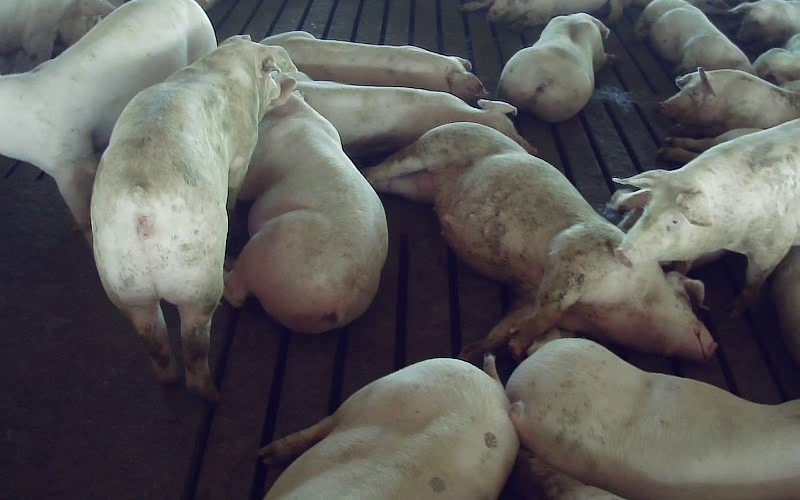pig: (367, 123, 715, 359), (91, 37, 293, 399), (0, 0, 215, 238), (507, 338, 799, 499), (224, 76, 387, 332), (259, 356, 518, 499), (297, 80, 533, 162), (261, 31, 485, 102), (498, 13, 608, 121), (659, 68, 799, 136), (635, 0, 753, 73)
